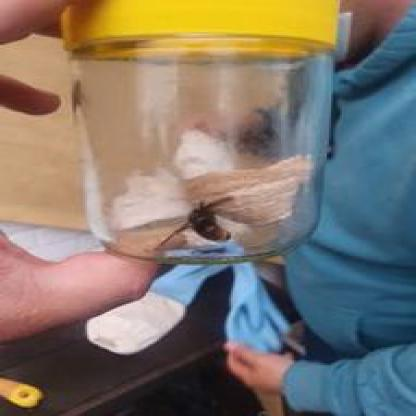Asian Hornet: (164, 194, 242, 246)
